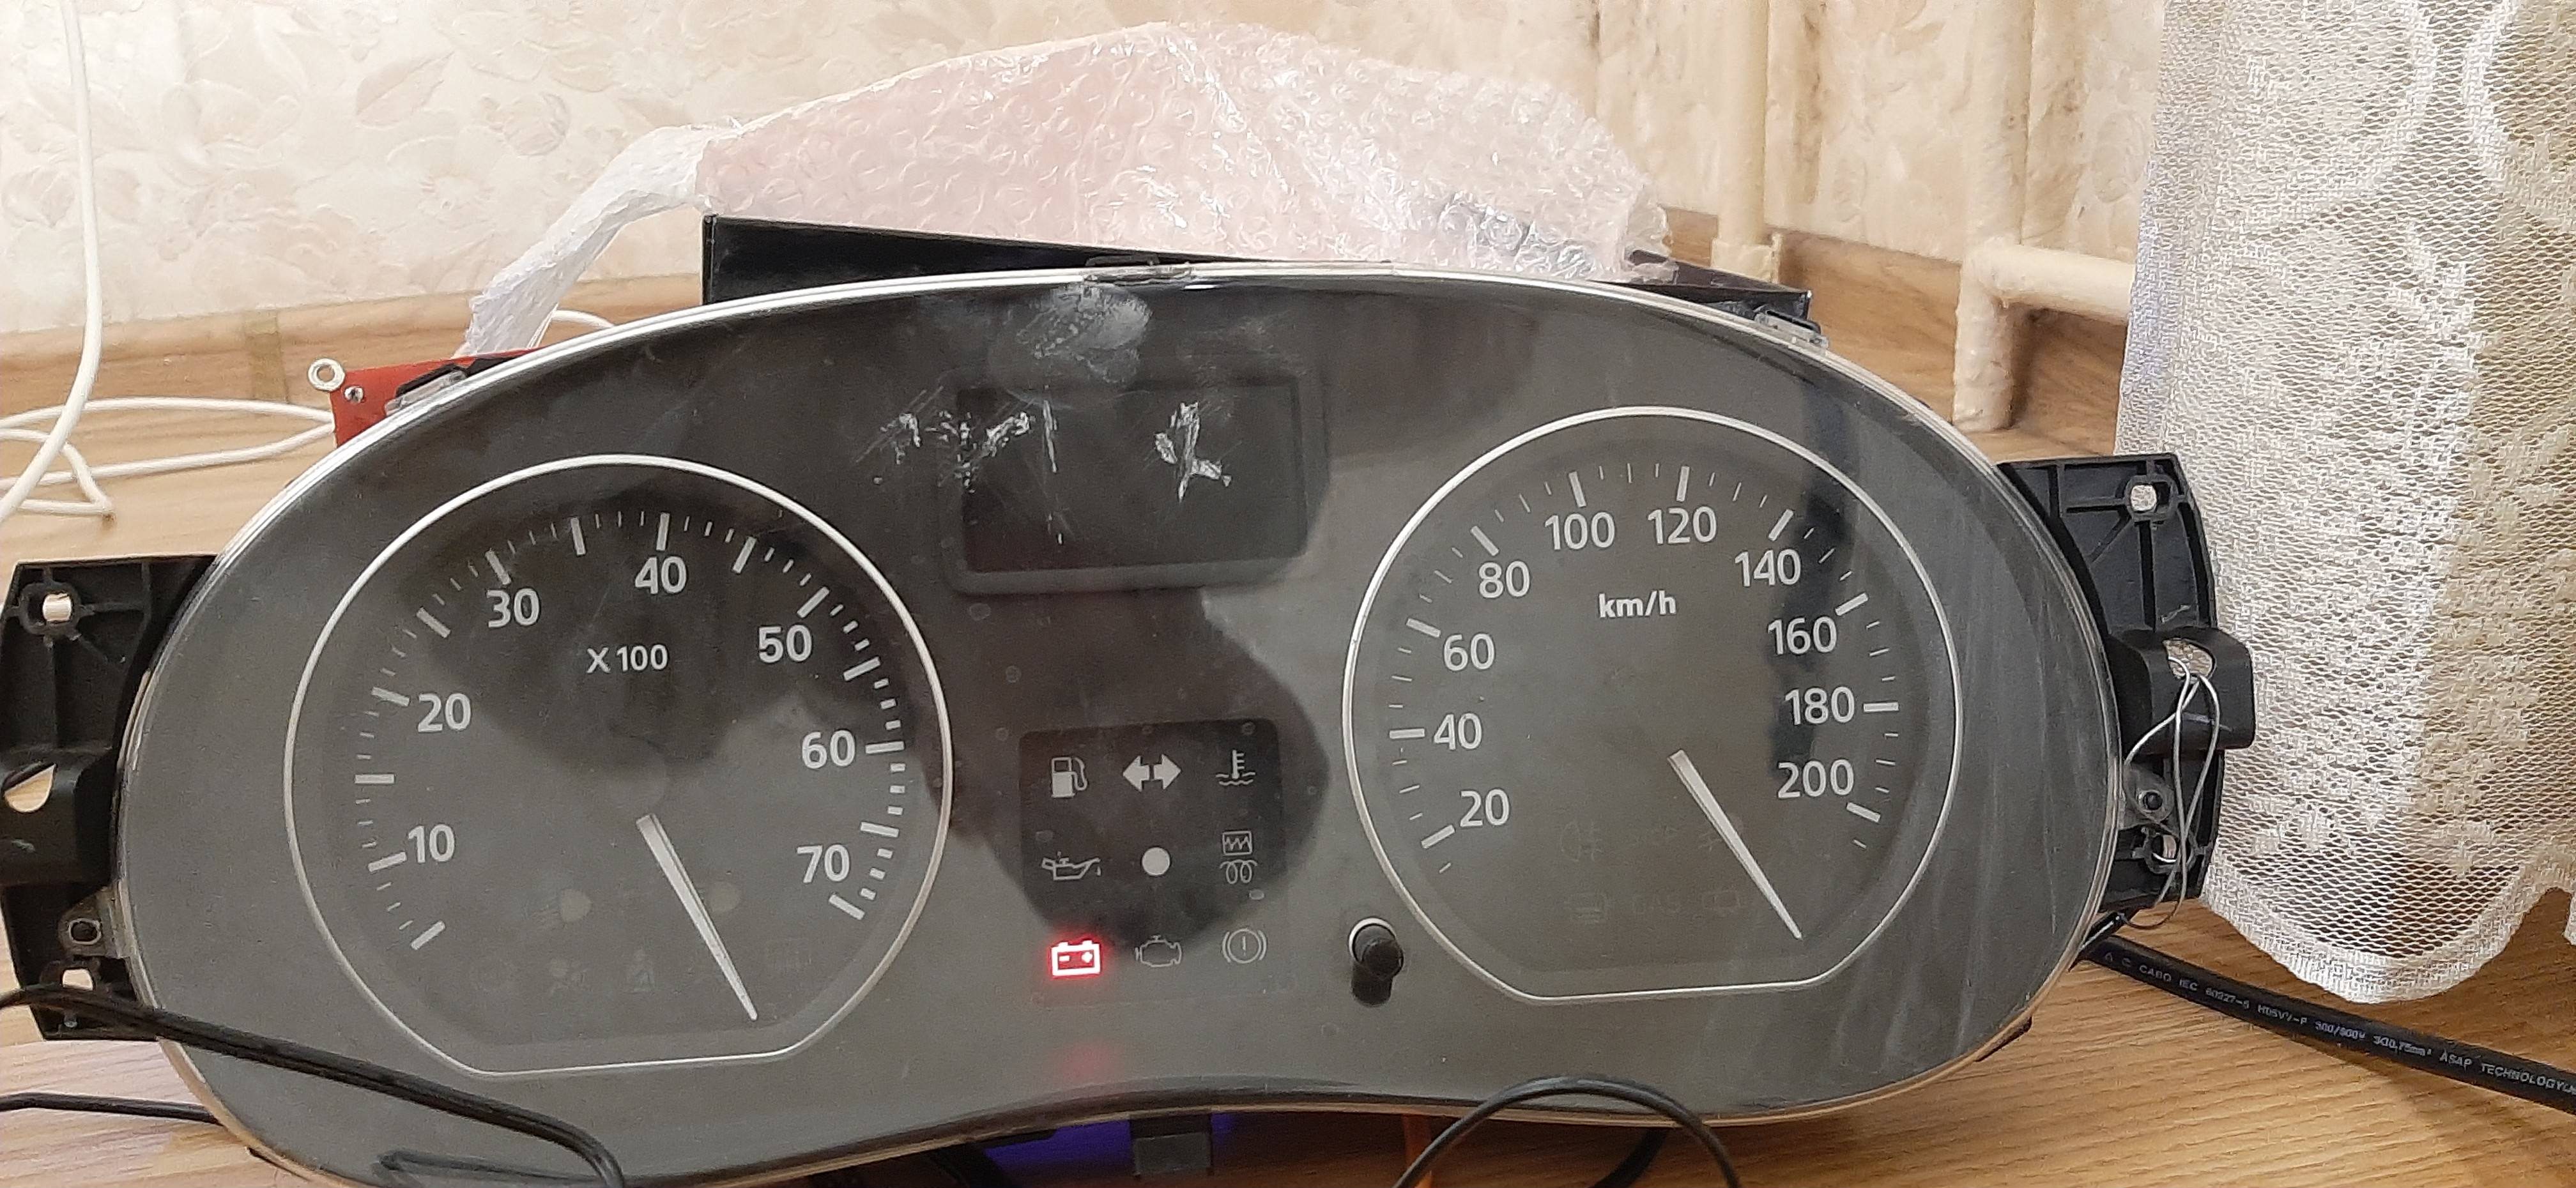accomulator2: (1045, 937, 1107, 981)
